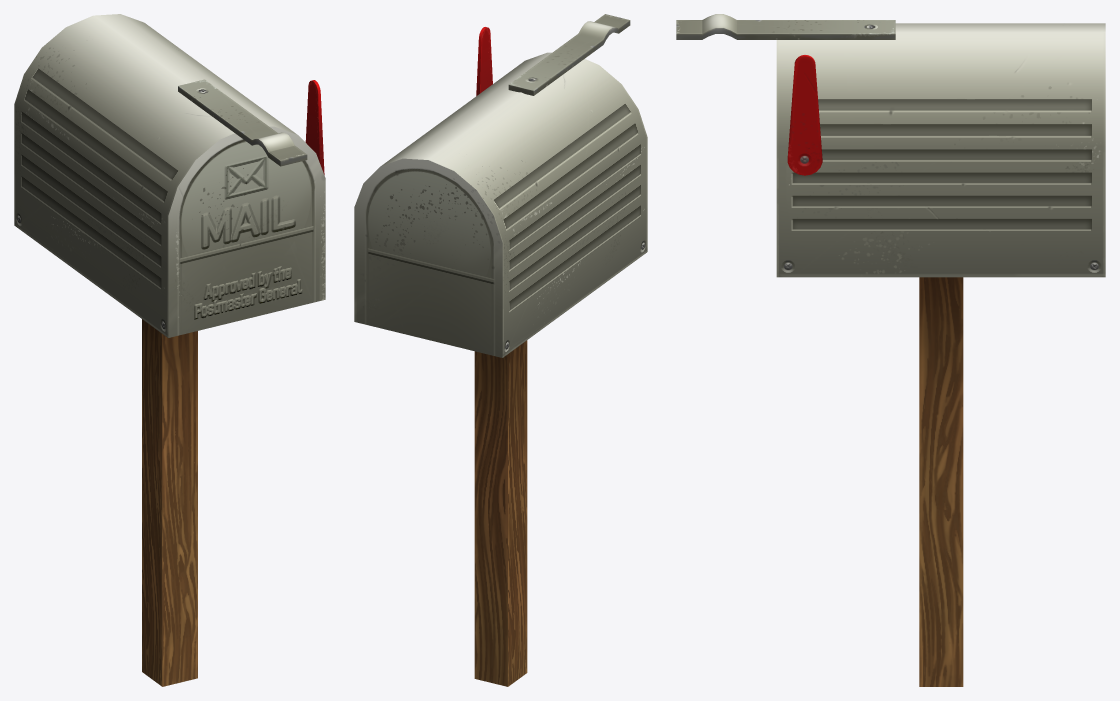
3 views of the same model, side by side, from view 1: azimuth 30°, elevation 25°; view 2: azimuth 150°, elevation 25°; view 3: azimuth 270°, elevation 25° (orthographic). The views are drawn at different scales.
Visible parts, largest first — view 1: Briefkasten; view 2: Briefkasten; view 3: Briefkasten.
Part boxes in pixels (left/top/right/bottom): Briefkasten: left=14, top=14, right=325, bottom=686; Briefkasten: left=354, top=14, right=647, bottom=686; Briefkasten: left=676, top=14, right=1105, bottom=686.
Size of the model in its own units: 0.3647 by 1.34 by 0.7835.
1 material, 1 textured.
